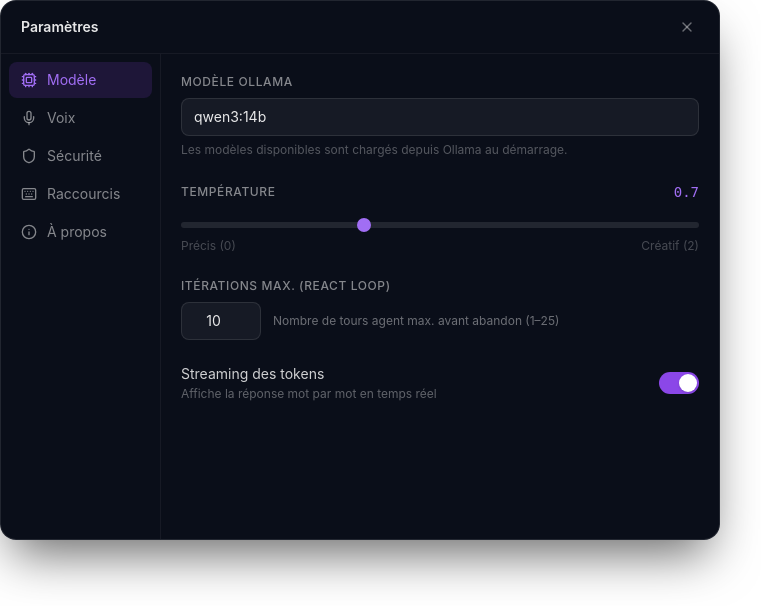
Test case: SettingsWindow › l'onglet À propos décrit la stack réelle (sans LanceDB)
Step 1. Click the button "À propos" → (80,232), box [9,214,152,250]
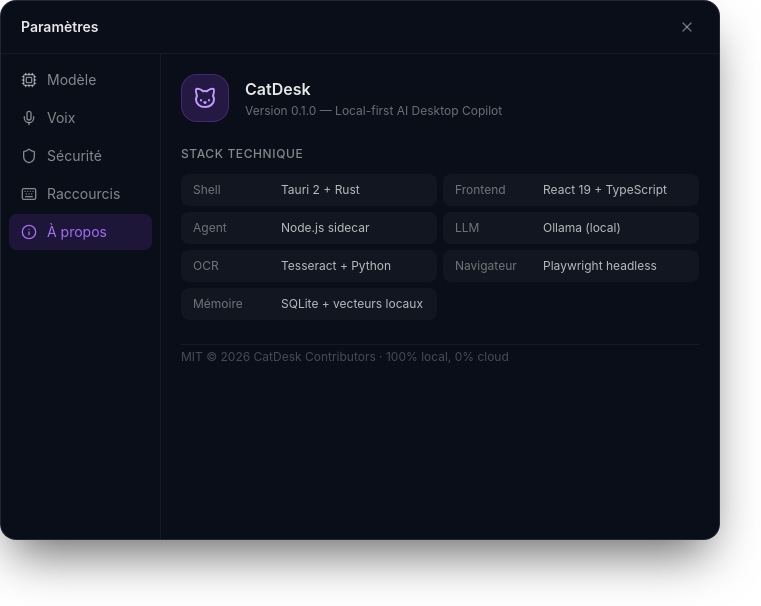
Expected: the text "Version 0.1.0 — Local-first AI Desktop Copilot" is shown, [245,103,502,119]
